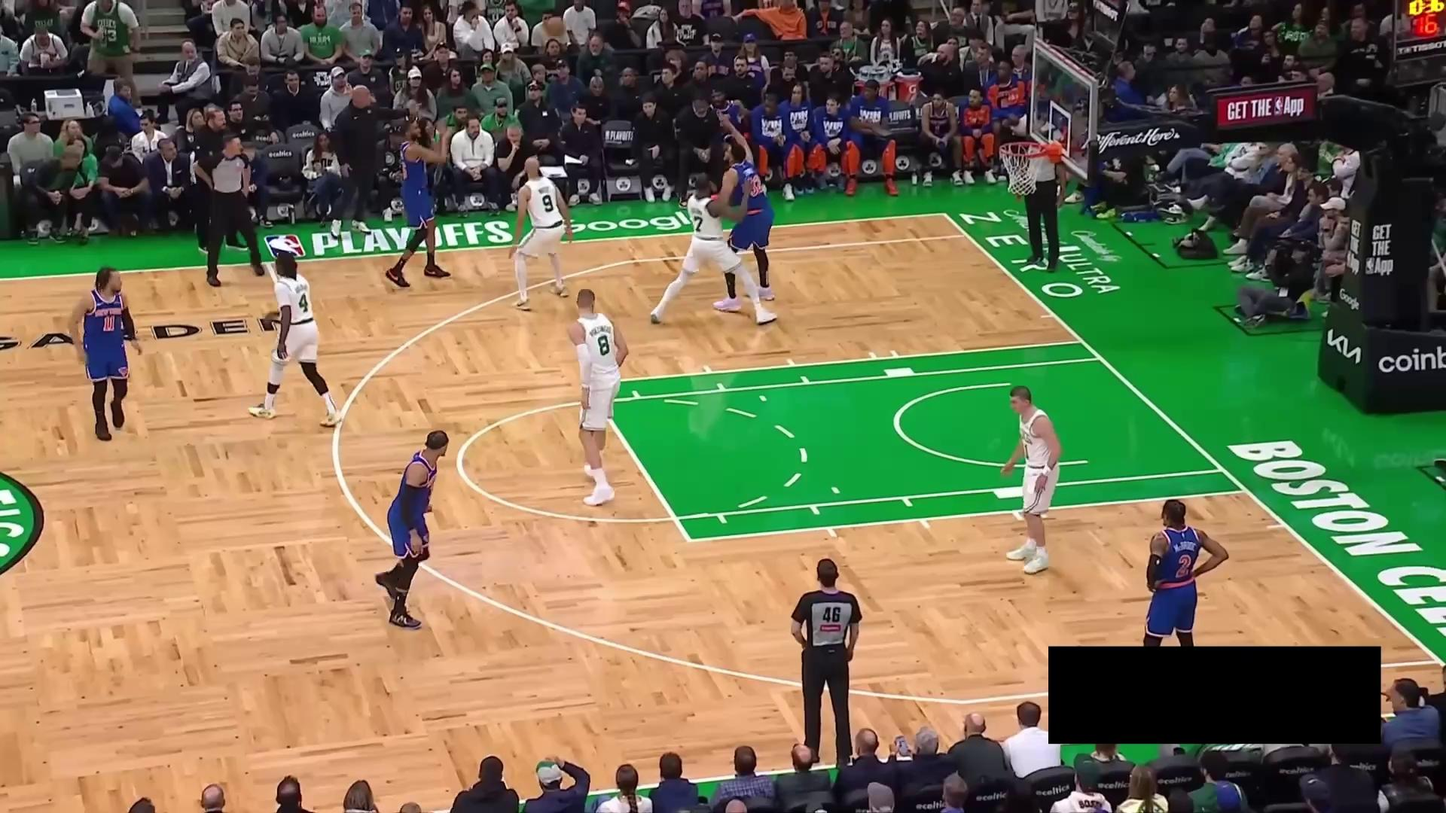ball: (541, 15, 566, 40)
number: (540, 192, 556, 213), (1177, 553, 1191, 577), (596, 334, 611, 356), (748, 176, 763, 198), (296, 292, 308, 312), (103, 314, 116, 331), (692, 215, 704, 232)
player: (649, 160, 769, 325), (249, 248, 346, 428), (372, 430, 447, 629), (711, 111, 780, 323), (70, 265, 144, 442), (1142, 498, 1229, 648), (569, 288, 628, 507), (384, 109, 453, 290), (998, 385, 1062, 575), (506, 148, 573, 311)
referee: (790, 557, 863, 772), (197, 133, 269, 287), (1020, 157, 1067, 272)
rim: (999, 140, 1048, 158)
